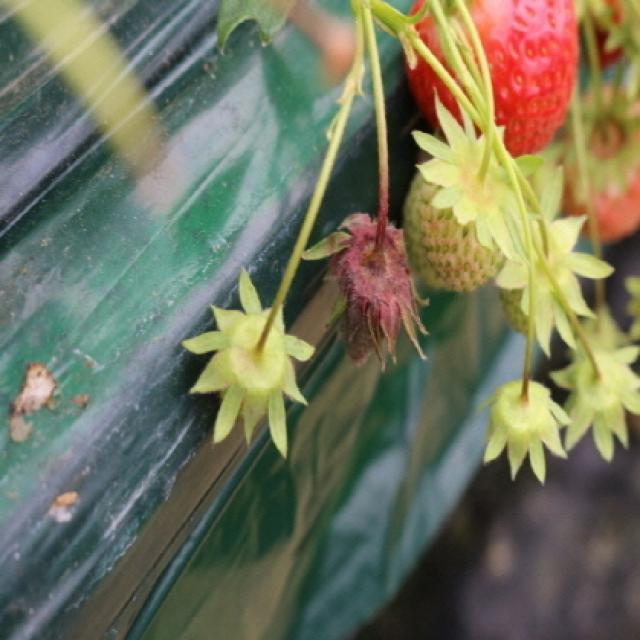Gray Mold: (325, 193, 433, 373)
